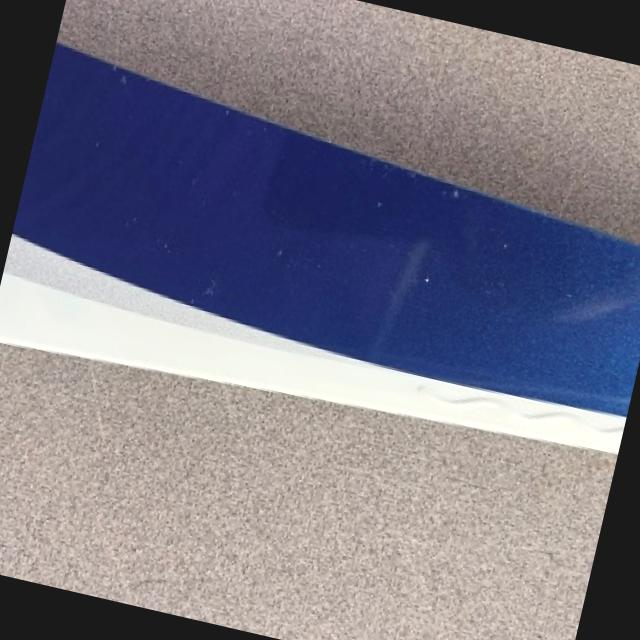healthy: (0, 42, 640, 452), (0, 342, 615, 640)
